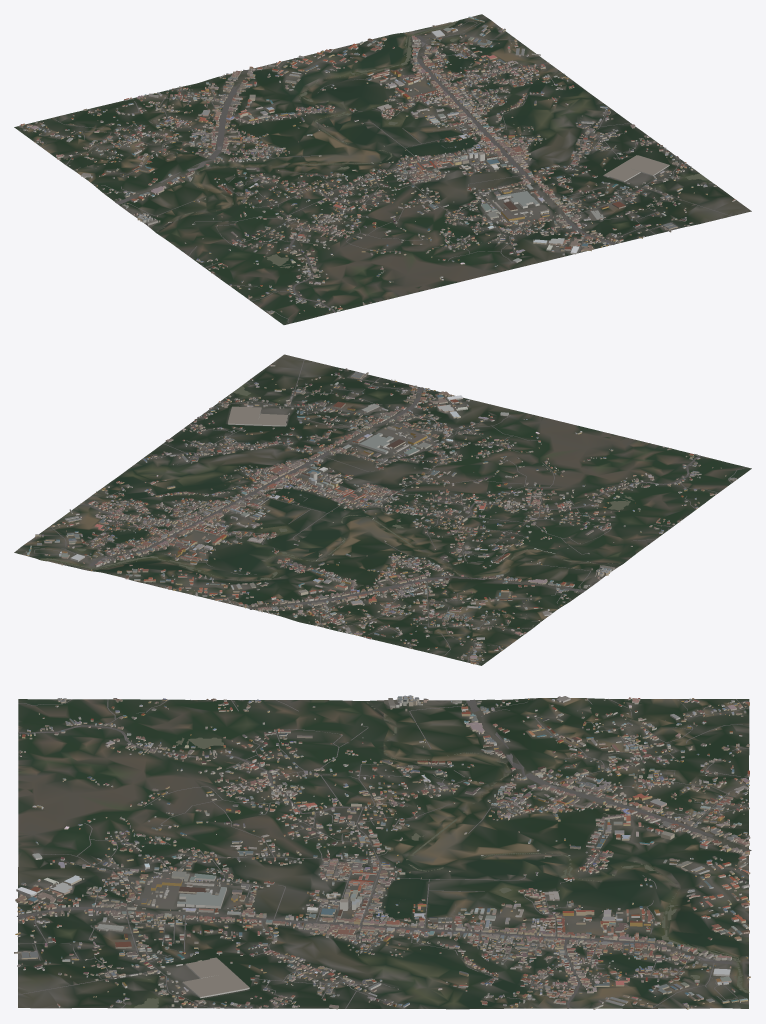
The picture shows the model from 3 angles, top to bottom: view 1: azimuth 30°, elevation 25°; view 2: azimuth 150°, elevation 25°; view 3: azimuth 270°, elevation 25°; orthographic projection. The views are drawn at different scales.
Parts seen in each view (by area): view 1: ground, buildings, roads, water; view 2: ground, buildings, roads, water; view 3: ground, buildings, roads, water.
Boxes of the visible parts, x1,y1,x2,y2 form: ground: (14, 14, 751, 324); buildings: (18, 16, 735, 314); roads: (19, 21, 731, 323); water: (157, 21, 708, 268); ground: (14, 354, 751, 665); buildings: (25, 365, 736, 664); roads: (34, 359, 745, 662); water: (40, 386, 634, 585); ground: (18, 698, 749, 1009); buildings: (14, 695, 750, 1009); roads: (17, 698, 751, 1008); water: (134, 702, 749, 1007).
Bounding box in the file's own units: 2822 × 48.38 × 2831.
